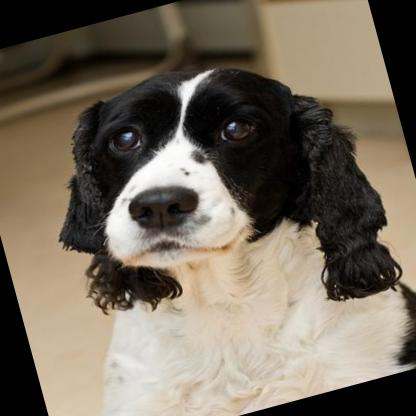English_springer: (0, 15, 416, 416)
